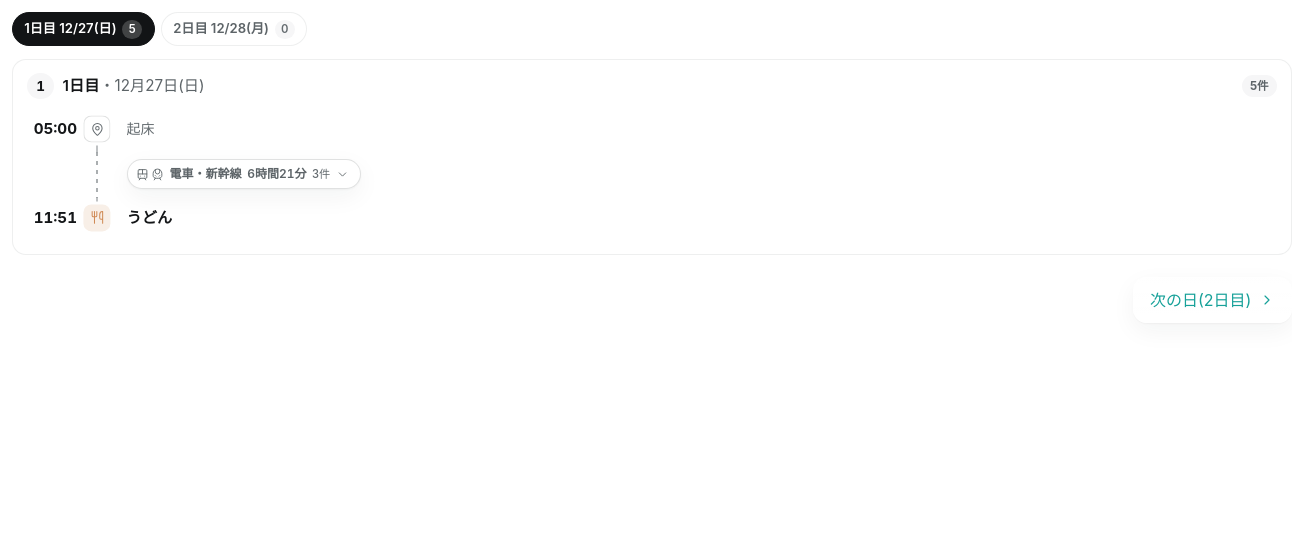
Test: 続けて並ぶ移動は1本の「つなぎ」に(第6弾 D-1) › 札を押すと3件に開き、編集も押せる。もう一度押すと畳む
Step 1. Click the button "電車・新幹線 6時間21分 3件" → (244, 174), box [127,159,361,189]
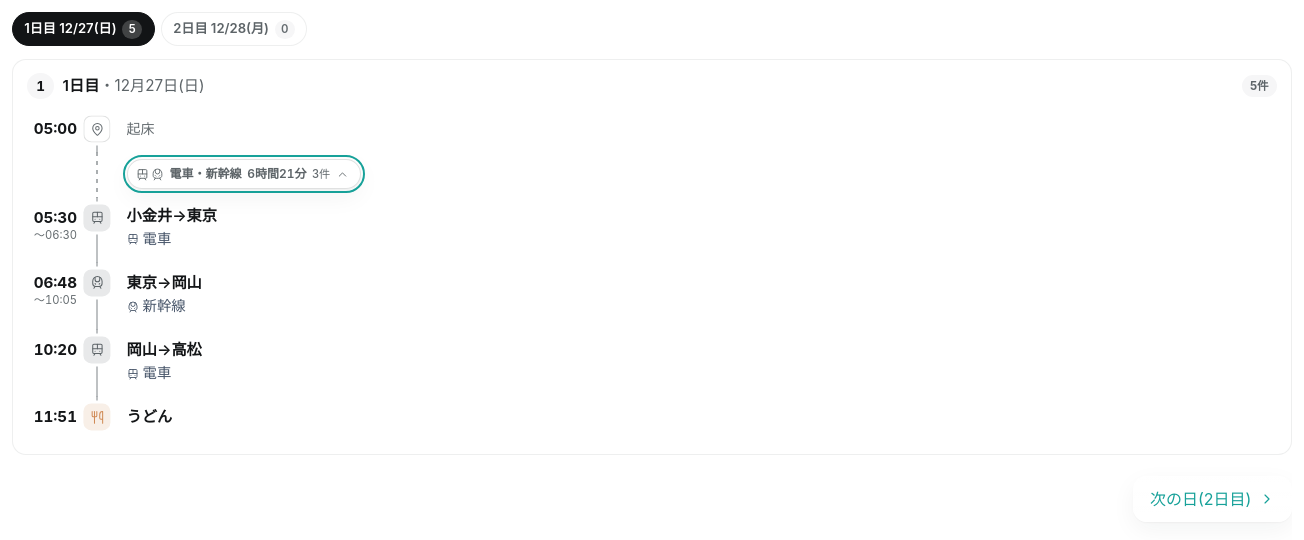
Result: the number of list items is 6 at [27,108,1277,152]; [127,159,361,189]; [27,197,1277,262]; [27,262,1277,329]; [27,329,1277,396]; [27,396,1277,440]
Result: the text "東京→岡山" is shown at [127,273,202,292]
Step 2. Click the button named "東京→岡山を編集" → (697, 295), box [117,264,1277,327]
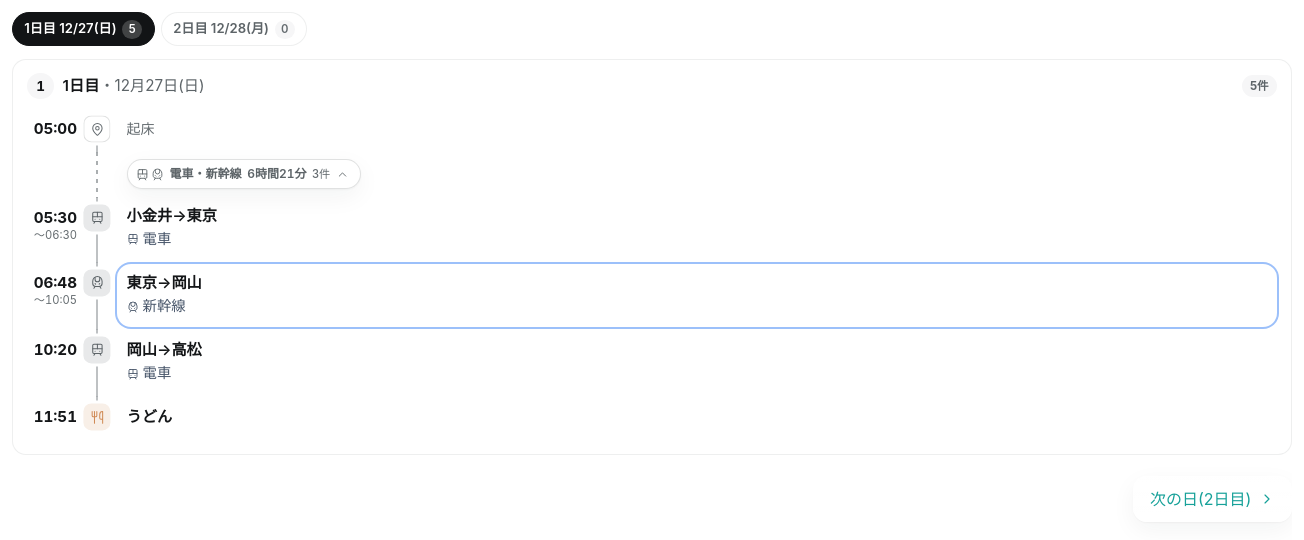
Step 3. Click the button "電車・新幹線 6時間21分 3件" → (244, 174), box [127,159,361,189]
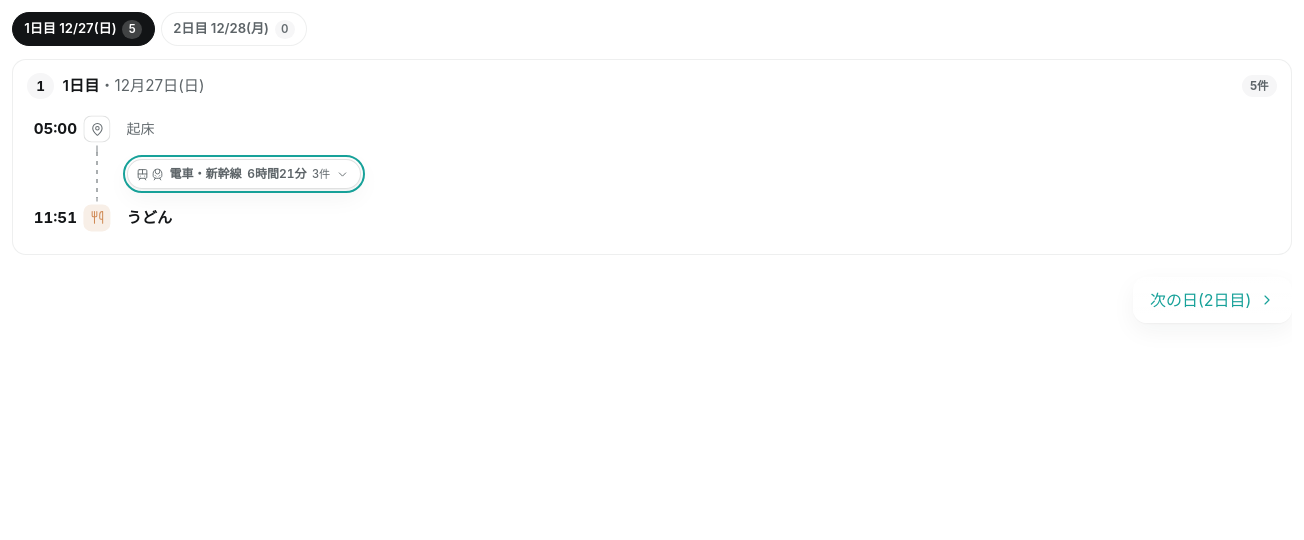
Result: the number of list items is 3 at [27,108,1277,152]; [127,159,361,189]; [27,197,1277,241]
